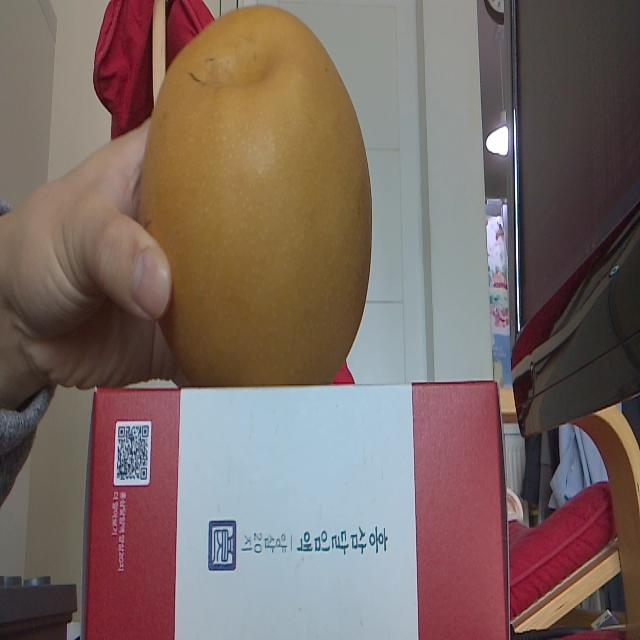pear: (142, 0, 376, 387)
